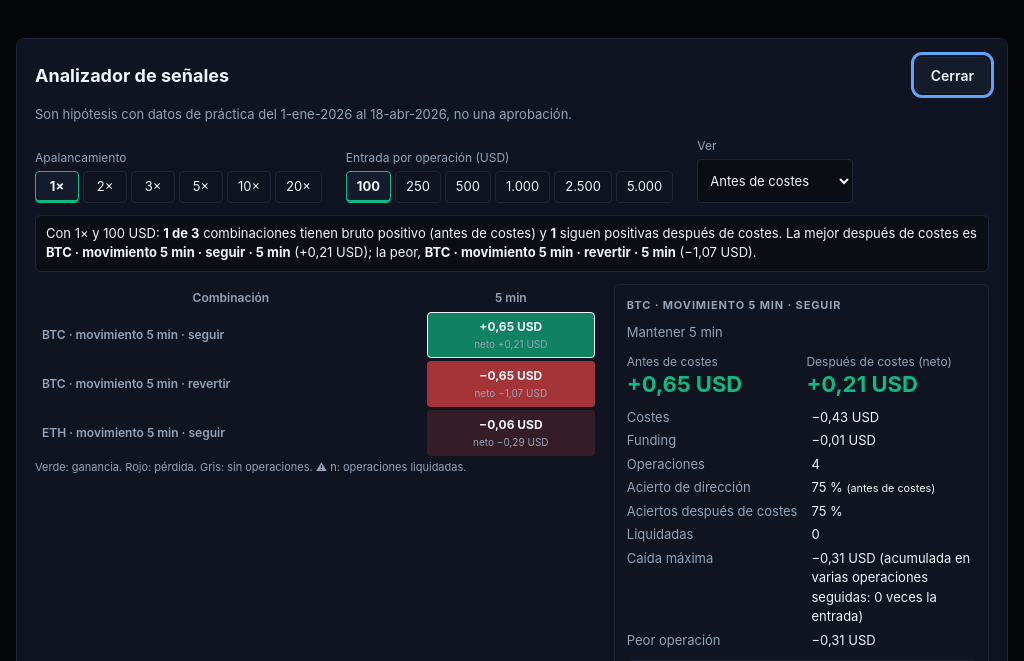
it: Analizador de señales › elegir otra celda cambia el detalle
The width and height of the screenshot is (1024, 661).
Expected: the element with test id "analyzer-summary" is shown, [35,215,989,272]
Click the button with aria-label "BTC · movimiento 5 min · revertir · 5 min": [511, 384] box [427,361,595,407]
(page scrolled)
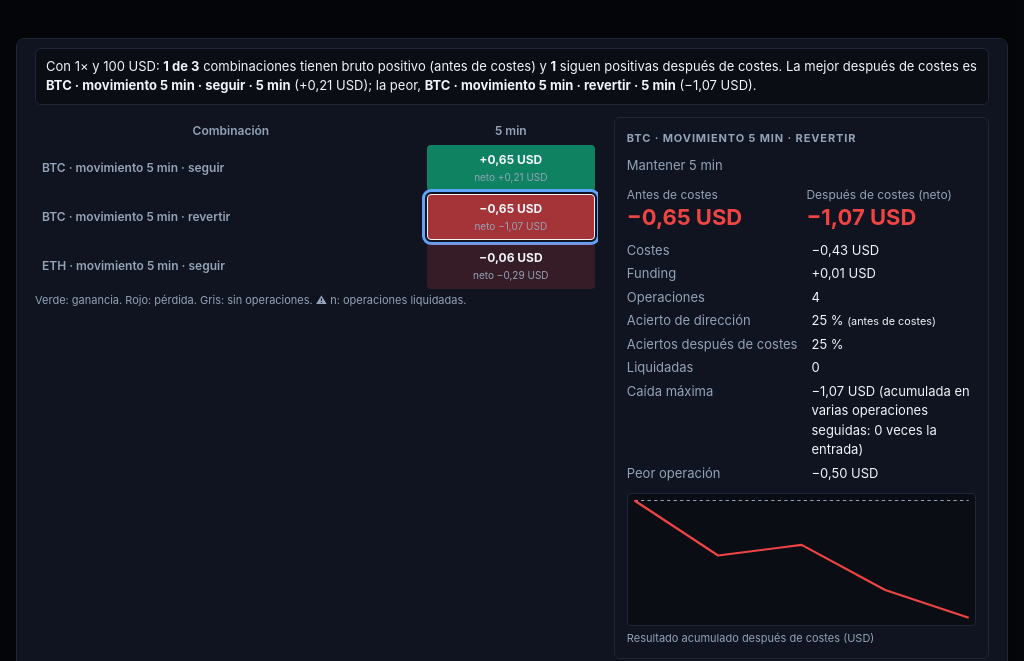
Expected: the element named "Detalle de la combinación" shows "BTC · movimiento 5 min · revertir", [627,131,856,145]
